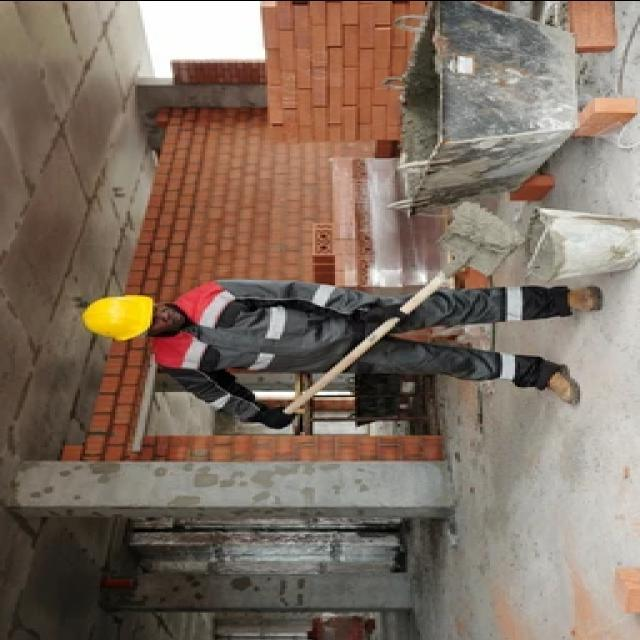boots: (531, 283, 604, 407)
helmet: (80, 292, 186, 342)
